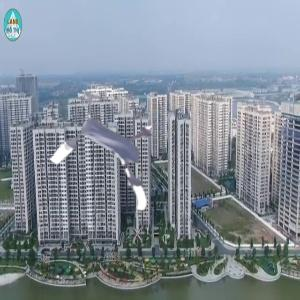drone: (53, 94, 167, 208)
